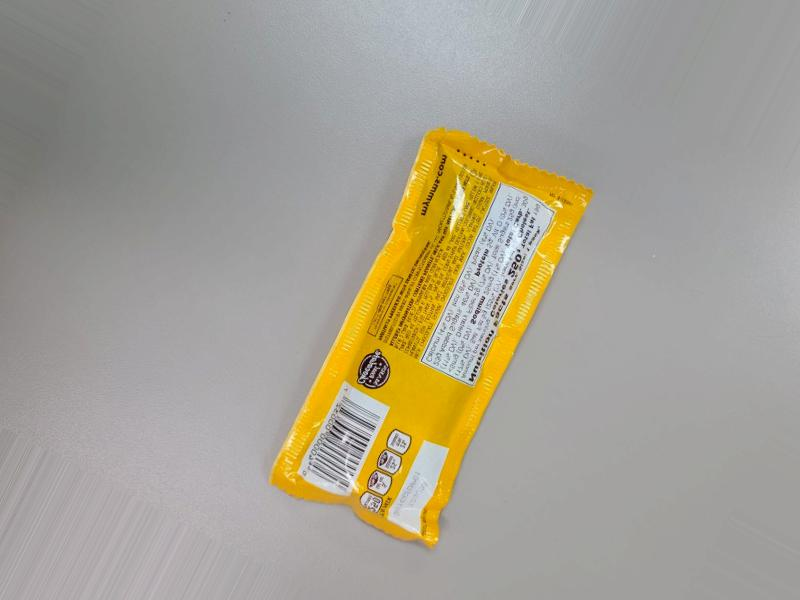m&m: (241, 99, 599, 563)
